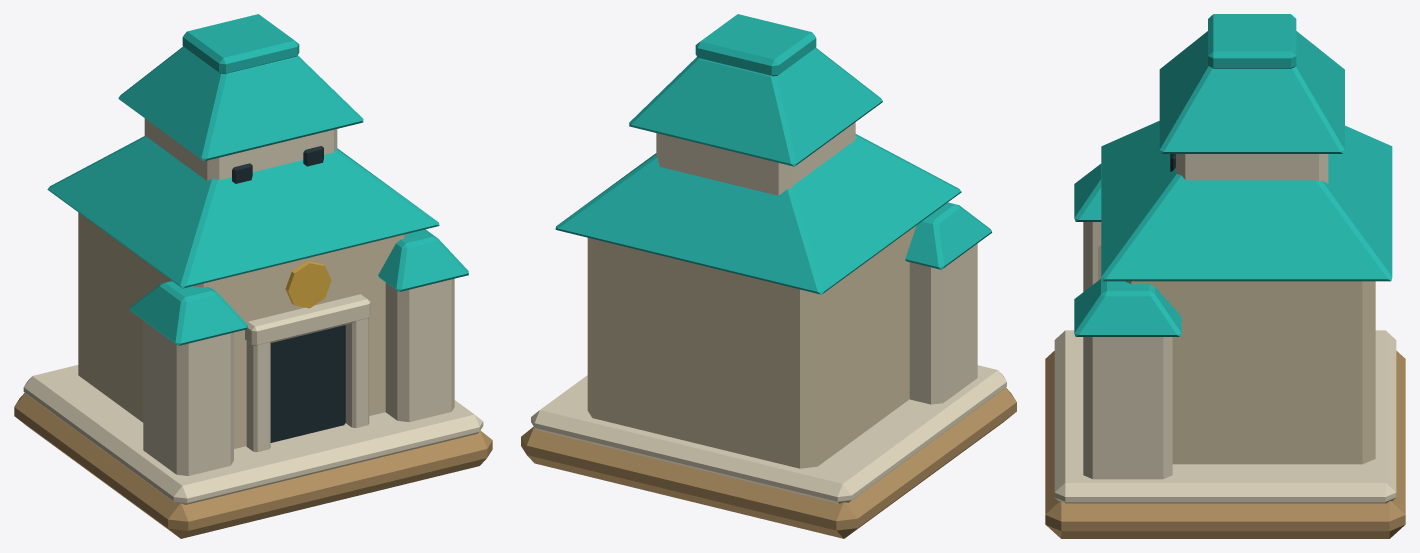
The model's file is home-core.glb.
3 views of the same model, side by side, from view 1: azimuth 30°, elevation 25°; view 2: azimuth 150°, elevation 25°; view 3: azimuth 270°, elevation 25° (orthographic). The views are drawn at different scales.
Visible parts, largest first — view 1: home-core_TOY_BODY_VERTEX_COLOR, home-core_TEAM_TEAL; view 2: home-core_TOY_BODY_VERTEX_COLOR, home-core_TEAM_TEAL; view 3: home-core_TOY_BODY_VERTEX_COLOR, home-core_TEAM_TEAL.
Part boxes in pixels (left/top/right/bottom): home-core_TOY_BODY_VERTEX_COLOR: left=14, top=118, right=492, bottom=538; home-core_TEAM_TEAL: left=47, top=14, right=468, bottom=345; home-core_TOY_BODY_VERTEX_COLOR: left=521, top=122, right=1016, bottom=538; home-core_TEAM_TEAL: left=555, top=14, right=991, bottom=294; home-core_TOY_BODY_VERTEX_COLOR: left=1045, top=154, right=1405, bottom=538; home-core_TEAM_TEAL: left=1074, top=14, right=1392, bottom=336.
Bounding box in the file's own units: 3 × 3.54 × 2.7.
